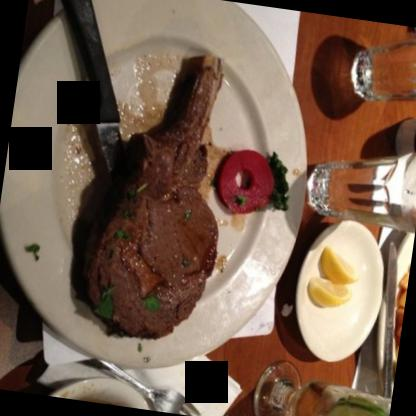beef: (72, 43, 245, 346)
